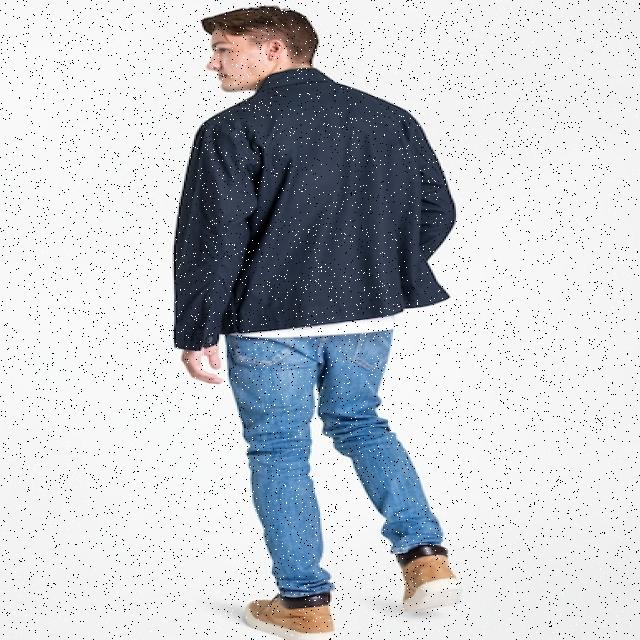Person: (176, 4, 454, 640)
